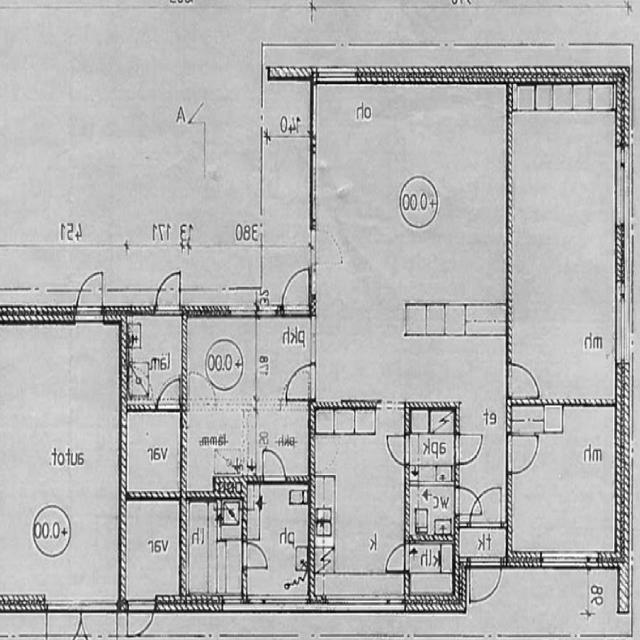door: (82, 595, 117, 640), (471, 557, 501, 609), (470, 480, 502, 528), (48, 595, 82, 640), (76, 269, 103, 323), (128, 595, 155, 640), (282, 270, 309, 314), (507, 436, 539, 472), (507, 362, 538, 396), (286, 366, 316, 400), (156, 273, 179, 314), (453, 434, 481, 464), (383, 434, 411, 464), (263, 446, 285, 484), (453, 486, 479, 514), (385, 544, 411, 571), (158, 376, 179, 409), (242, 543, 266, 567)
